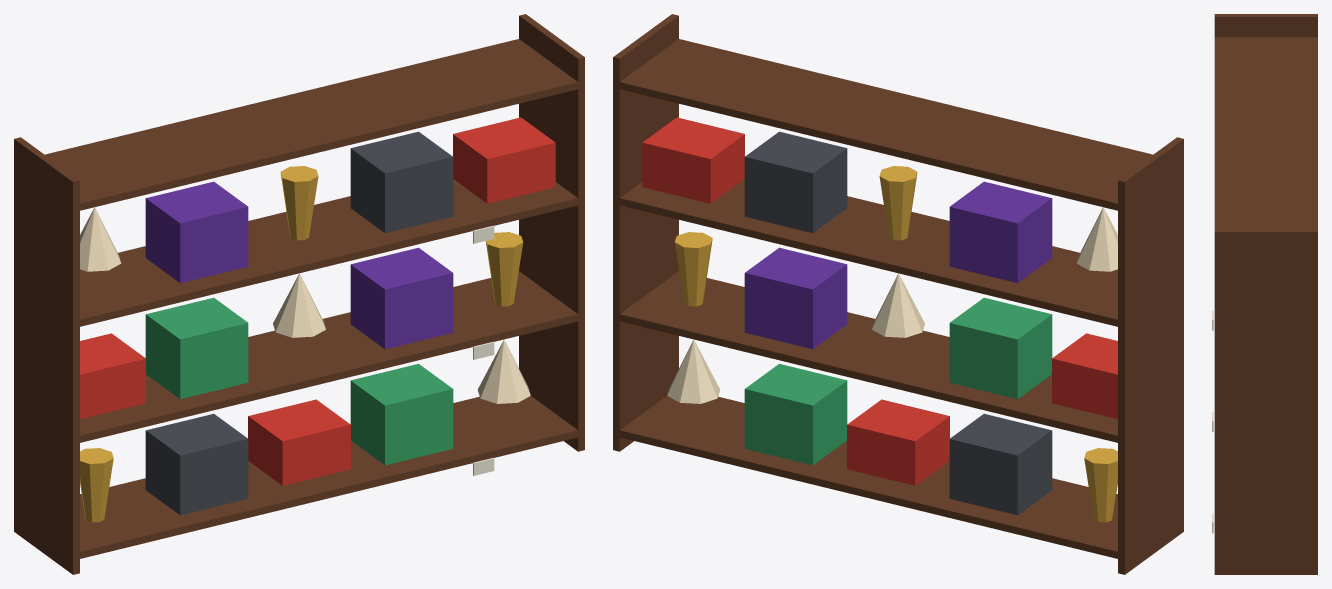
File: pawn_shelf.glb
3 renders of one model, left to right at view 1: azimuth 30°, elevation 25°; view 2: azimuth 150°, elevation 25°; view 3: azimuth 270°, elevation 25°, orthographic. The views are drawn at different scales.
Visible parts, largest first — view 1: board_pawn_wood (×4), box, side_pawn_wood (×2), trophy, lamp; view 2: board_pawn_wood (×4), box, side_pawn_wood (×2), trophy, lamp; view 3: side_pawn_wood (×2), board_pawn_wood (×3).
Boxes of the visible parts, x1,y1,x2,y2 form: board_pawn_wood (×4): (14,39,584,560); box: (80,117,555,515); side_pawn_wood (×2): (14,14,584,574); trophy: (80,166,523,522); lamp: (80,207,530,403); board_pawn_wood (×4): (613,39,1183,559); box: (642,117,1117,515); side_pawn_wood (×2): (613,14,1183,574); trophy: (674,166,1117,522); lamp: (667,207,1117,403); side_pawn_wood (×2): (1214,14,1317,574); board_pawn_wood (×3): (1214,37,1317,461).
Bounding box in the file's own units: 3 × 2.2 × 0.615.
